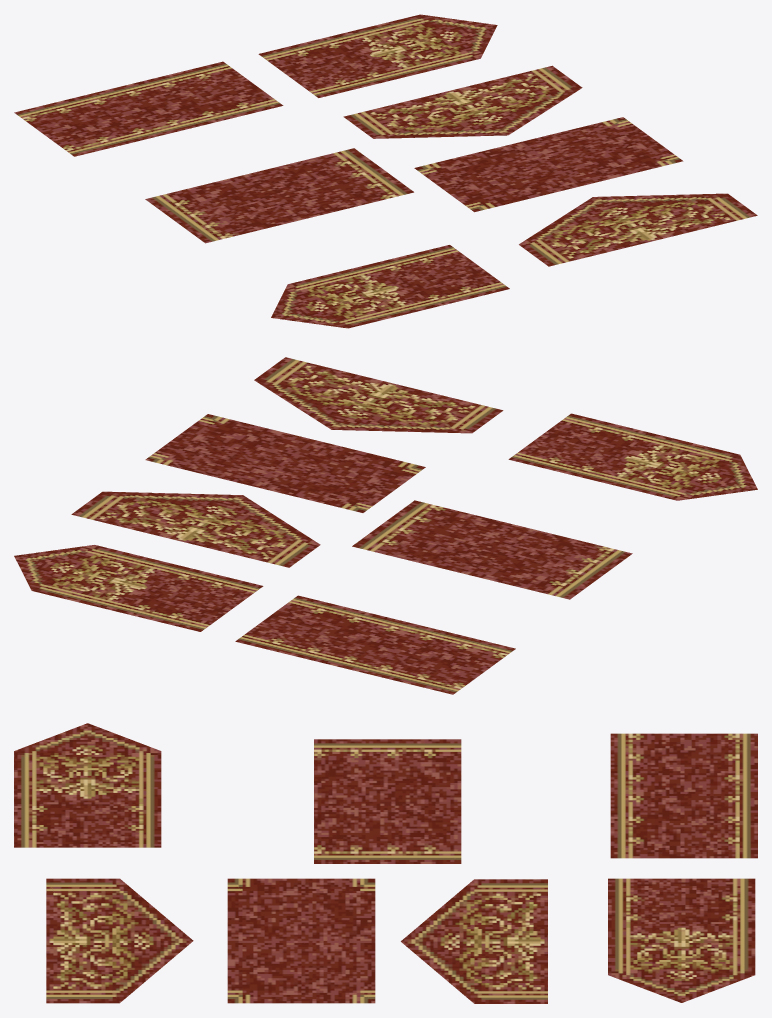
File: EnvMdrMD_Mansion_A_GrdCpt_Depth_Loop.FBX
3 views of the same model, one above another, from view 1: azimuth 30°, elevation 25°; view 2: azimuth 150°, elevation 25°; view 3: azimuth 270°, elevation 25° (orthographic). The views are drawn at different scales.
Parts seen in each view (by area): view 1: EnvMdrMD_Mansion_A_GrdCpt_Depth_Loop, EnvMdrMD_Mansion_A_GrdCpt_Junction_All, EnvMdrMD_Mansion_A_GrdCpt_Horizon_Loop, EnvMdrMD_Mansion_A_GrdCpt_Horizon_End_BK, EnvMdrMD_Mansion_A_GrdCpt_Horizon_End_FR, EnvMdrMD_Mansion_A_GrdCpt_Horizon_End_RS, EnvMdrMD_Mansion_A_GrdCpt_Horizon_End_LS; view 2: EnvMdrMD_Mansion_A_GrdCpt_Depth_Loop, EnvMdrMD_Mansion_A_GrdCpt_Horizon_Loop, EnvMdrMD_Mansion_A_GrdCpt_Junction_All, EnvMdrMD_Mansion_A_GrdCpt_Horizon_End_FR, EnvMdrMD_Mansion_A_GrdCpt_Horizon_End_BK, EnvMdrMD_Mansion_A_GrdCpt_Horizon_End_RS, EnvMdrMD_Mansion_A_GrdCpt_Horizon_End_LS; view 3: EnvMdrMD_Mansion_A_GrdCpt_Junction_All, EnvMdrMD_Mansion_A_GrdCpt_Depth_Loop, EnvMdrMD_Mansion_A_GrdCpt_Horizon_Loop, EnvMdrMD_Mansion_A_GrdCpt_Horizon_End_BK, EnvMdrMD_Mansion_A_GrdCpt_Horizon_End_FR, EnvMdrMD_Mansion_A_GrdCpt_Horizon_End_LS, EnvMdrMD_Mansion_A_GrdCpt_Horizon_End_RS.
Boxes of the visible parts, x1,y1,x2,y2 form: EnvMdrMD_Mansion_A_GrdCpt_Depth_Loop: (14,61,283,156); EnvMdrMD_Mansion_A_GrdCpt_Junction_All: (414,117,683,212); EnvMdrMD_Mansion_A_GrdCpt_Horizon_Loop: (145,148,413,243); EnvMdrMD_Mansion_A_GrdCpt_Horizon_End_BK: (258,14,497,97); EnvMdrMD_Mansion_A_GrdCpt_Horizon_End_FR: (271,245,509,328); EnvMdrMD_Mansion_A_GrdCpt_Horizon_End_RS: (343,65,582,138); EnvMdrMD_Mansion_A_GrdCpt_Horizon_End_LS: (519,193,757,266); EnvMdrMD_Mansion_A_GrdCpt_Depth_Loop: (235,595,515,694); EnvMdrMD_Mansion_A_GrdCpt_Horizon_Loop: (352,500,632,599); EnvMdrMD_Mansion_A_GrdCpt_Junction_All: (145,414,425,512); EnvMdrMD_Mansion_A_GrdCpt_Horizon_End_FR: (508,413,757,500); EnvMdrMD_Mansion_A_GrdCpt_Horizon_End_BK: (14,545,263,631); EnvMdrMD_Mansion_A_GrdCpt_Horizon_End_RS: (71,491,320,567); EnvMdrMD_Mansion_A_GrdCpt_Horizon_End_LS: (254,357,503,433); EnvMdrMD_Mansion_A_GrdCpt_Junction_All: (227,878,375,1003); EnvMdrMD_Mansion_A_GrdCpt_Depth_Loop: (610,733,757,858); EnvMdrMD_Mansion_A_GrdCpt_Horizon_Loop: (314,739,461,863); EnvMdrMD_Mansion_A_GrdCpt_Horizon_End_BK: (608,878,755,1002); EnvMdrMD_Mansion_A_GrdCpt_Horizon_End_FR: (14,723,161,847); EnvMdrMD_Mansion_A_GrdCpt_Horizon_End_LS: (46,878,193,1003); EnvMdrMD_Mansion_A_GrdCpt_Horizon_End_RS: (401,879,547,1003).
Bounding box in the file's own units: 899 × 1 × 1009.
1 material, 1 textured.
